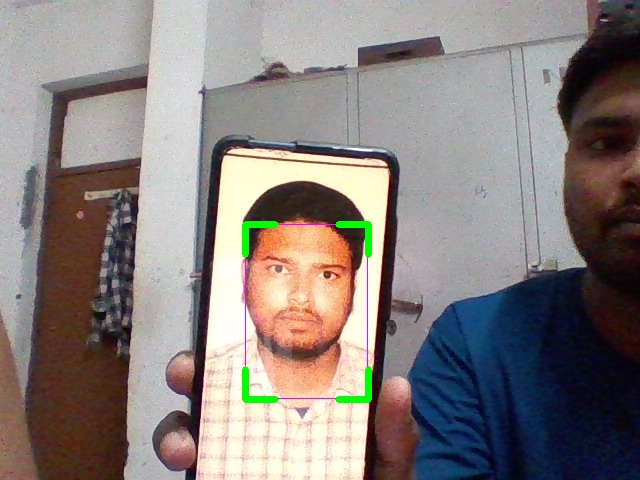fake: (245, 224, 368, 399)
